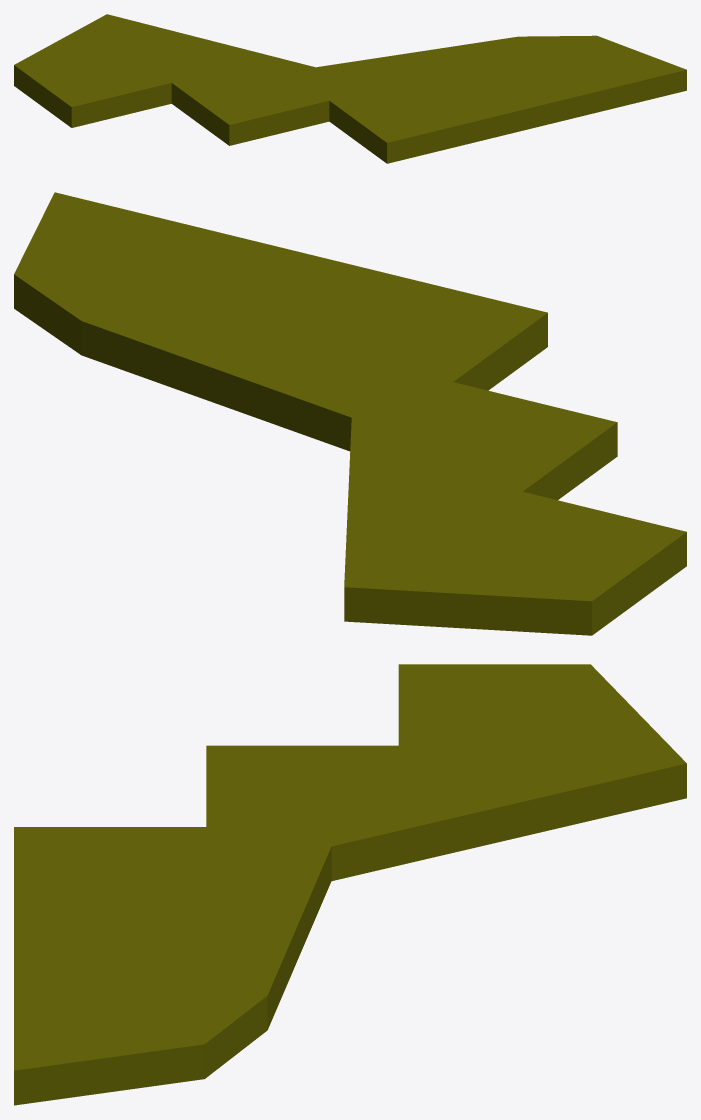
File: x_0_boloto_23_1_rmstrd.fbx
The picture shows the model from 3 angles, top to bottom: view 1: azimuth 30°, elevation 25°; view 2: azimuth 150°, elevation 25°; view 3: azimuth 270°, elevation 25°; orthographic projection. The views are drawn at different scales.
Visible parts, largest first — view 1: x_0_boloto_23_1_rmstrd1; view 2: x_0_boloto_23_1_rmstrd1; view 3: x_0_boloto_23_1_rmstrd1.
Boxes of the visible parts, x1,y1,x2,y2 form: x_0_boloto_23_1_rmstrd1: [14, 14, 686, 163]; x_0_boloto_23_1_rmstrd1: [14, 192, 686, 635]; x_0_boloto_23_1_rmstrd1: [14, 664, 686, 1105].
Bounding box in the file's own units: 5 × 0.2 × 3.5.
